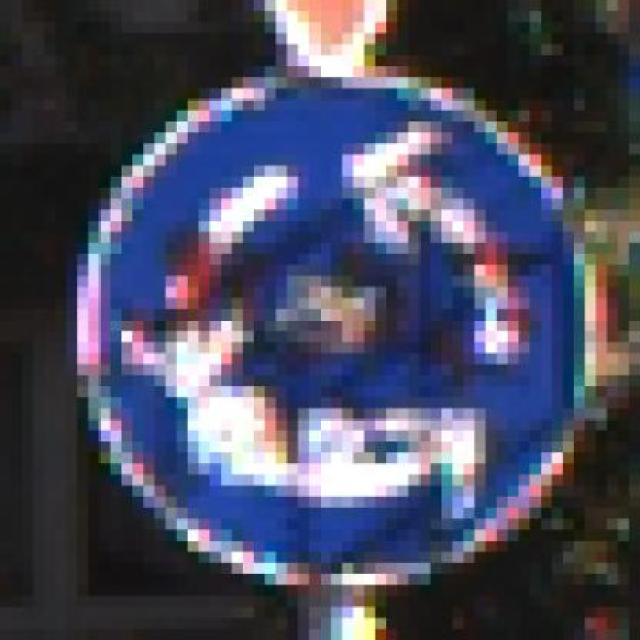Round-About: (33, 55, 618, 596)
